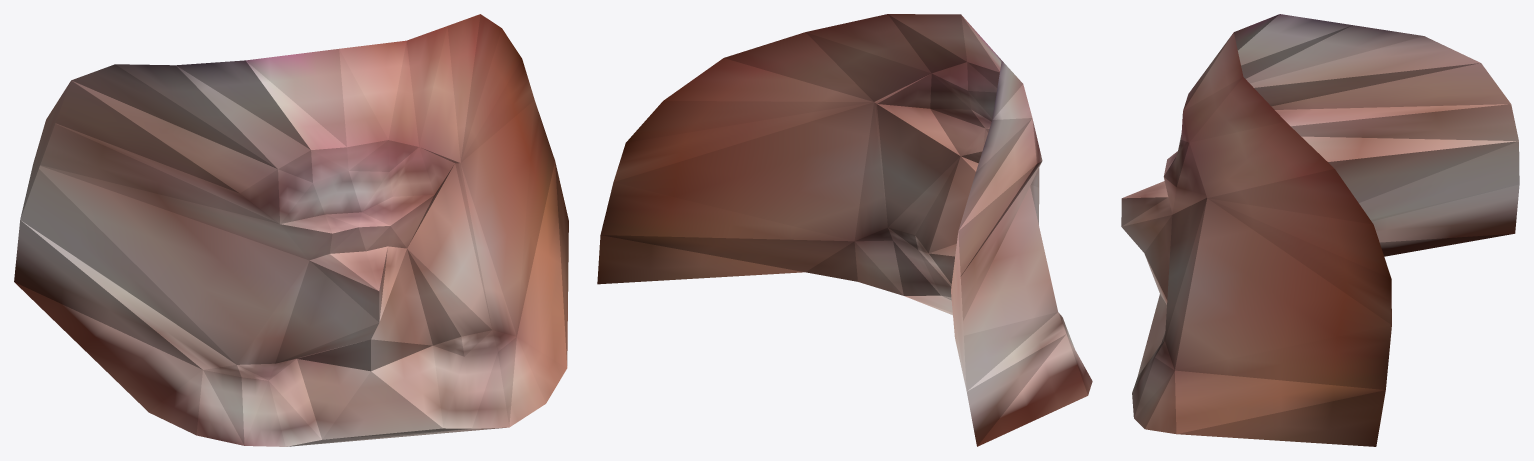
The model's file is real_17400.obj.
3 renders of one model, left to right at view 1: azimuth 30°, elevation 25°; view 2: azimuth 150°, elevation 25°; view 3: azimuth 270°, elevation 25°, orthographic. The views are drawn at different scales.
Size of the model in its own units: 112 by 82 by 88.39.
